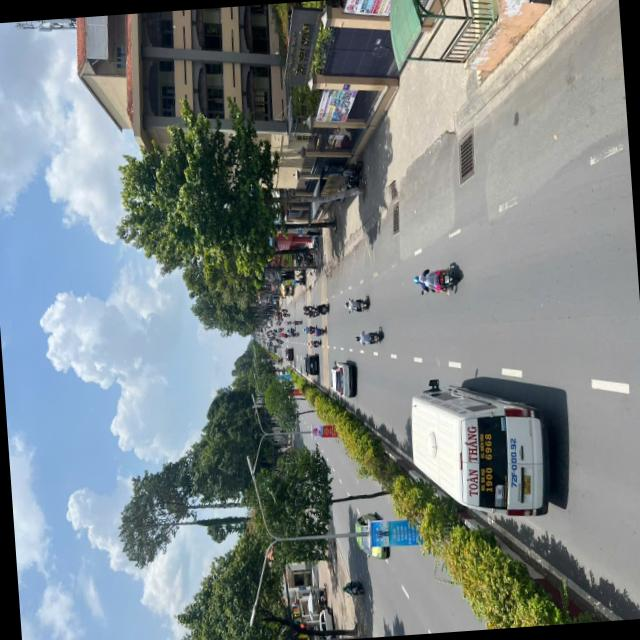car: (402, 366, 559, 529), (348, 506, 390, 565), (326, 354, 359, 402), (298, 348, 324, 378), (280, 344, 297, 364)
motobyte: (408, 258, 467, 301), (350, 323, 388, 350), (339, 292, 373, 317), (338, 574, 368, 602), (310, 298, 332, 316), (306, 324, 326, 338), (304, 337, 323, 349), (288, 315, 302, 328)
